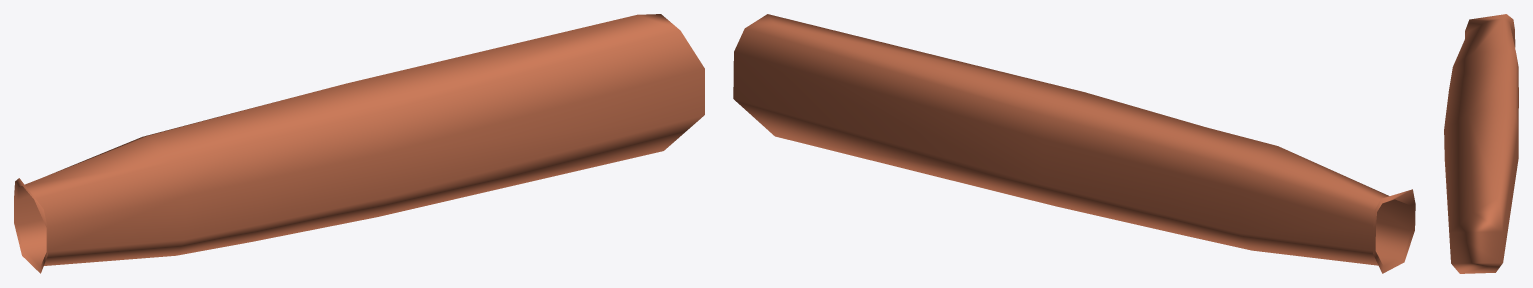
File: brazo.fbx
The picture shows the model from 3 angles, left to right: view 1: azimuth 30°, elevation 25°; view 2: azimuth 150°, elevation 25°; view 3: azimuth 270°, elevation 25°; orthographic projection. The views are drawn at different scales.
Parts seen in each view (by area): view 1: Mano; view 2: Mano; view 3: Mano.
Boxes of the visible parts, bbox=[...] form: Mano: bbox=[14, 14, 704, 273]; Mano: bbox=[733, 14, 1415, 273]; Mano: bbox=[1444, 14, 1518, 273].
Bounding box in the file's own units: 283 × 47.73 × 42.58.
